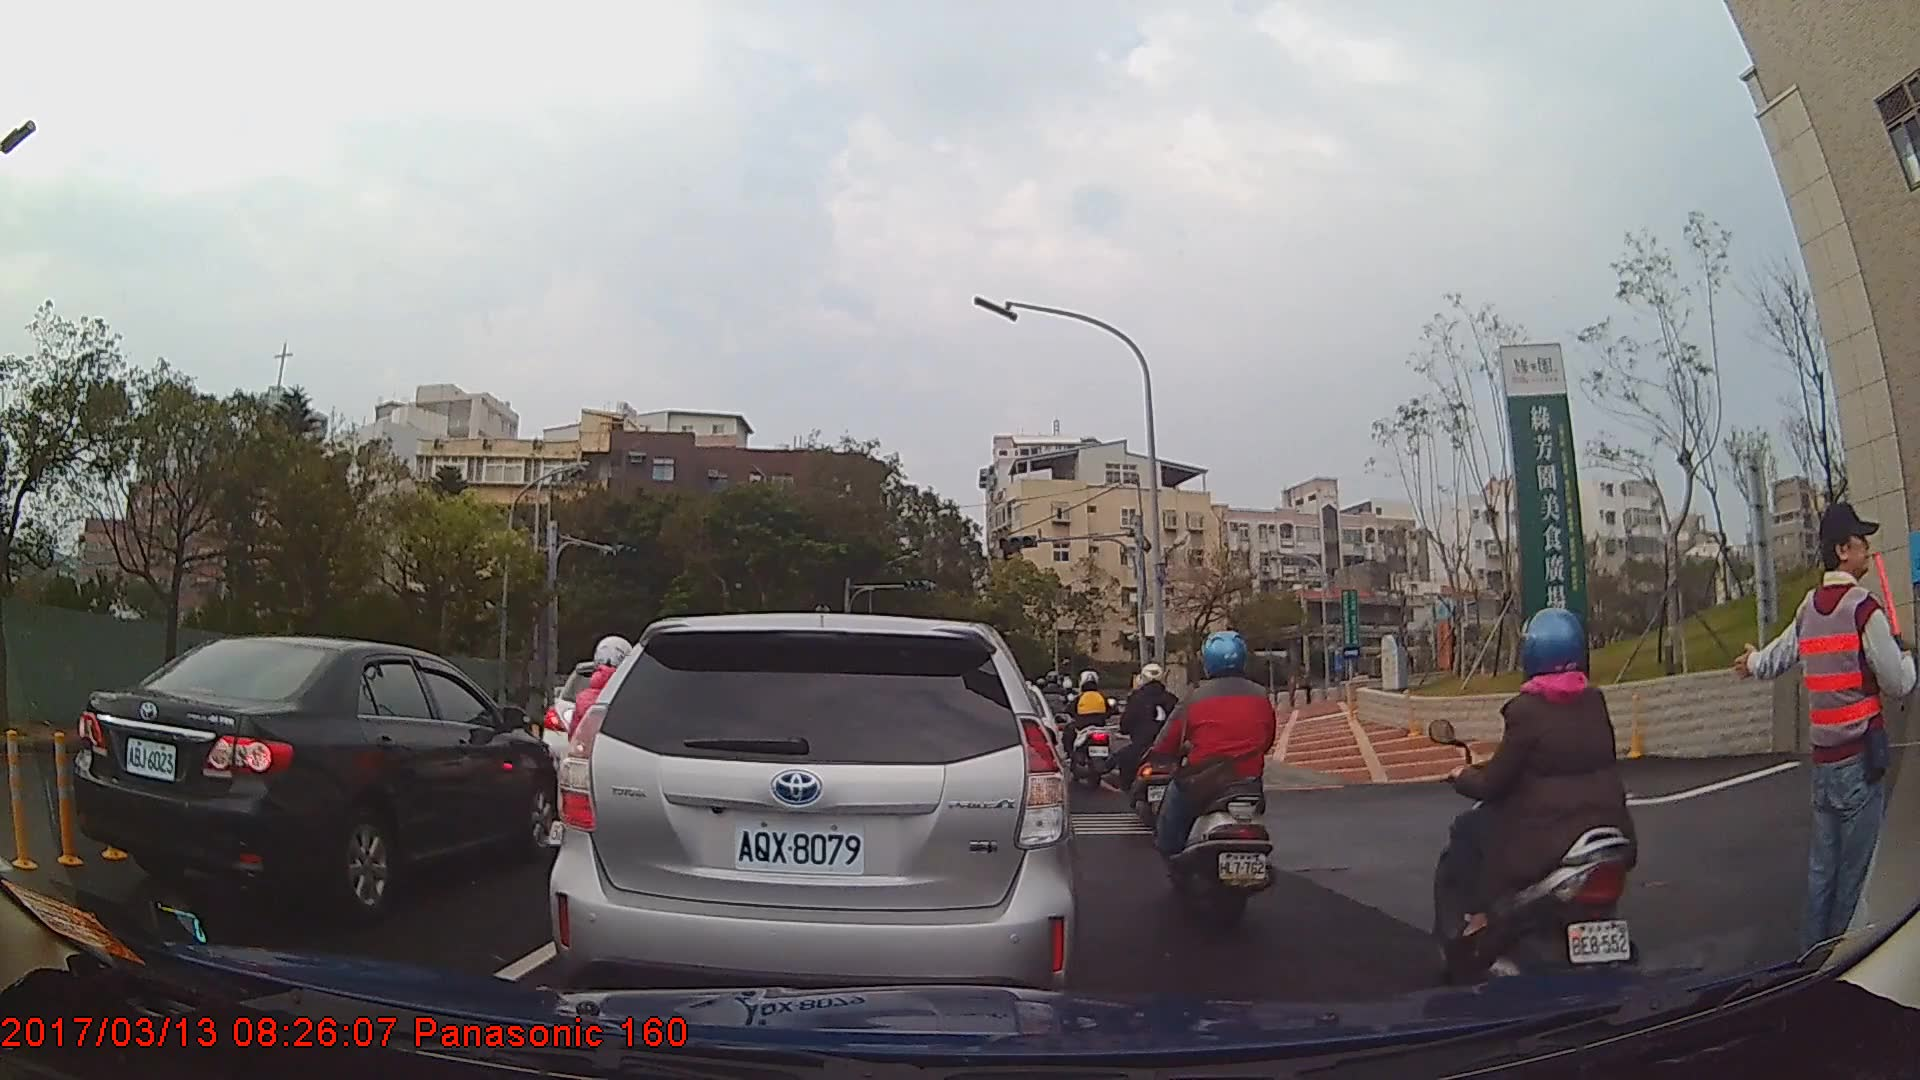pedestrian: (1741, 499, 1919, 979)
rider: (1424, 606, 1646, 1018), (1154, 631, 1277, 931), (542, 627, 647, 936), (1121, 657, 1184, 830), (1071, 668, 1121, 791)
vehicle: (552, 610, 1077, 1007), (70, 635, 554, 915)
